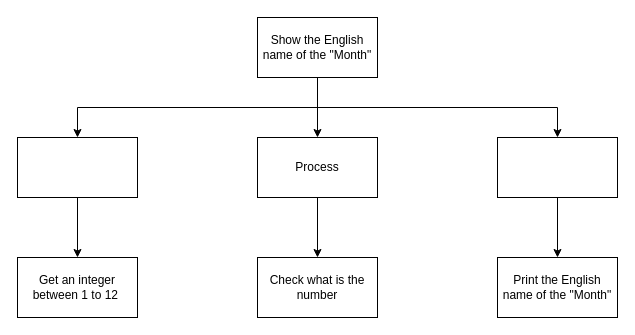
Some shapes in this 635 by 335 pixel diagram are drawn without their labels. Each missing label, with the box of its shape:
Input: (16, 136, 138, 198)
Output: (496, 136, 618, 198)
